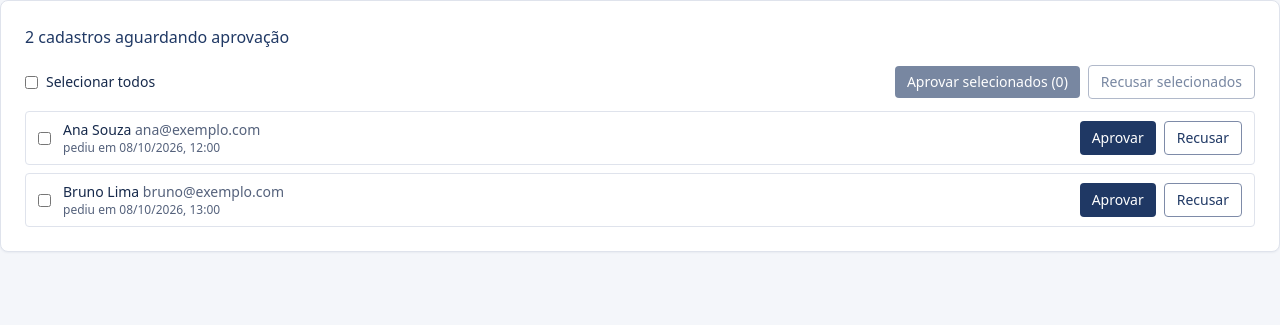
Test case: Pedidos de cadastro no painel › diz quantos esperam, e aprovar um manda só aquele
The image size is (1280, 325).
Expected: the heading "2 cadastros aguardando aprovação" is shown, [25,25,289,49]
Click the button with aria-label "Aprovar Ana Souza".
click(1118, 138)  # box [1080,121,1156,155]
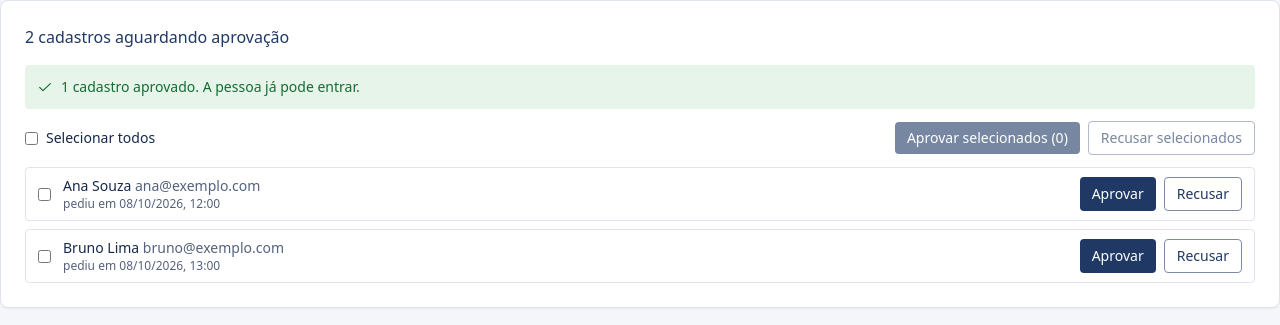
Expected: the text "1 cadastro aprovado. A pessoa já pode entrar." is shown, [61,77,360,96]
